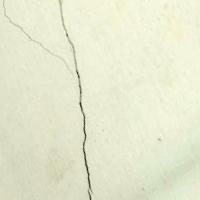crack: (33, 0, 97, 199)
